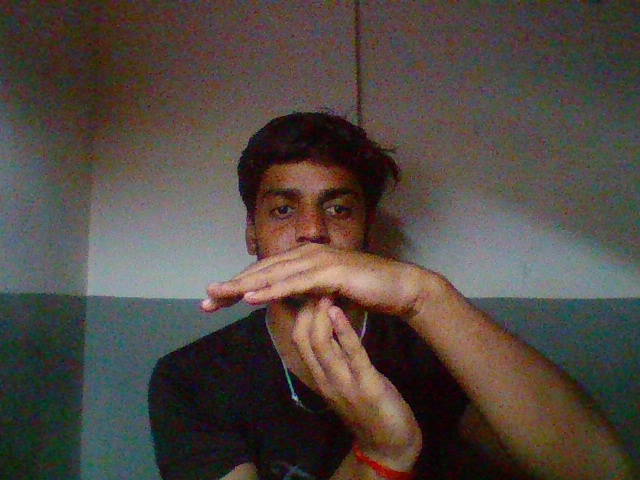J: (187, 230, 492, 470)
